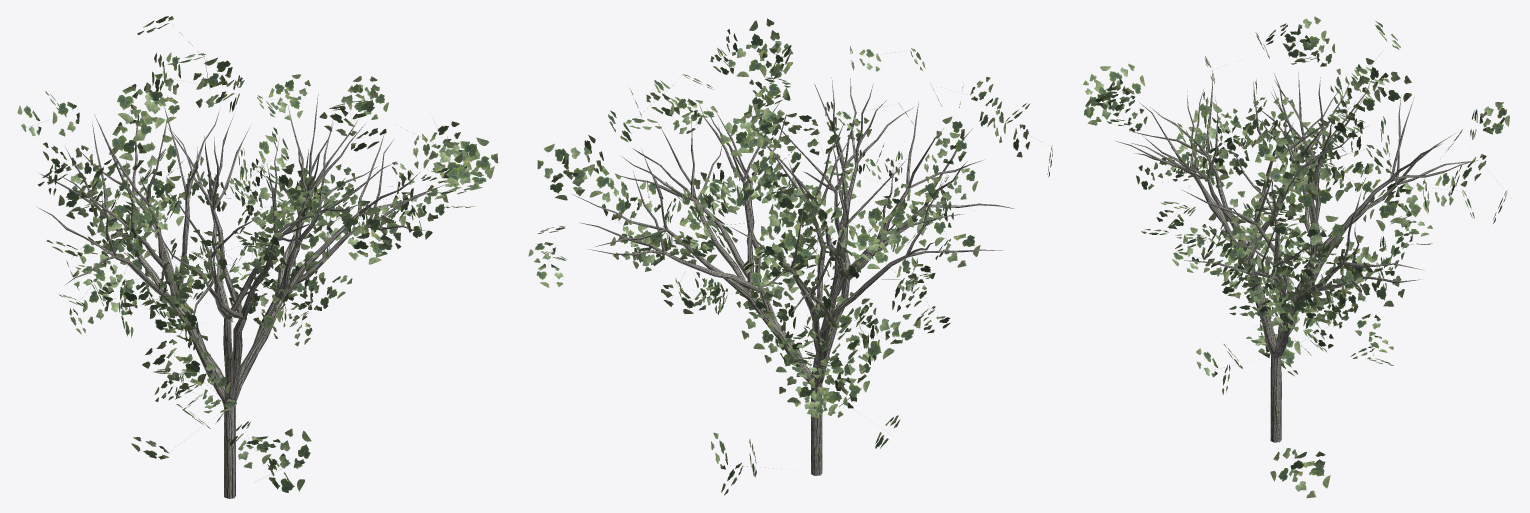
Rendered from bush.glb.
3 views of the same model, side by side, from view 1: azimuth 30°, elevation 25°; view 2: azimuth 150°, elevation 25°; view 3: azimuth 270°, elevation 25° (orthographic). The views are drawn at different scales.
Parts seen in each view (by area): view 1: bush; view 2: bush; view 3: bush.
Part boxes in pixels (x1,y1,x2,y2): bush: (17, 16, 498, 498); bush: (528, 18, 1052, 495); bush: (1083, 16, 1511, 498).
Size of what is drawn, in the model's own units: 2.23 by 2.27 by 2.05.
2 materials, 2 textured.
